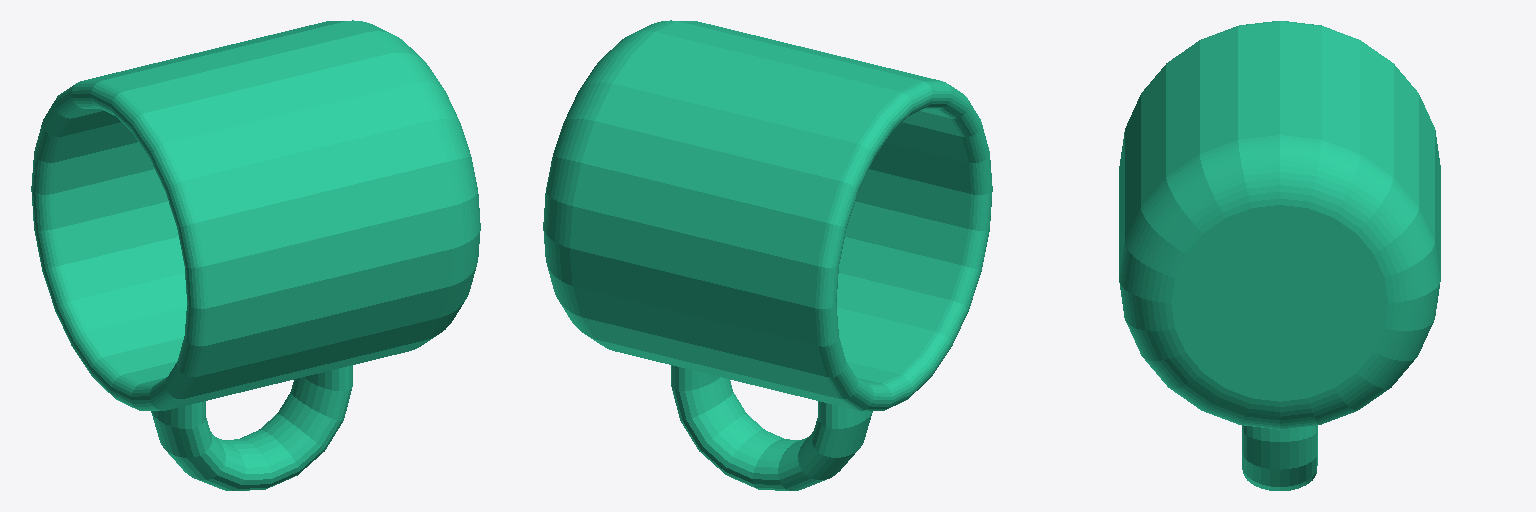
robot.urdf — model.urdf:
<robot name="model.urdf">
  <link name="baseLink">
    <contact>
      <friction_anchor/>
      <lateral_friction value="1.5"/>
      <!-- <spinning_friction value="0.001"/>
      <rolling_friction value="0.001"/> -->
      <spinning_friction value="0.0"/>
      <rolling_friction value="0.0"/>
      <contact_cfm value="0.0"/>
      <contact_erp value="1.0"/>
    </contact>
    <inertial>
       <origin rpy="0 0 0.1" xyz="0.005 0.005 -0.015"/>
       <!-- <mass value=".603"/> -->
       <mass value="1.0"/>
       <inertia ixx="1e-3" ixy="0" ixz="0" iyy="1e-3" iyz="0" izz="1e-3"/>
    </inertial>
    <visual>
      <origin rpy="0 0 1.57" xyz="0 0 0"/>
      <geometry>
        <mesh filename="model_normalized.obj" scale="1 1 1"/>
      </geometry>
      <material name="green">
        <color rgba="0.22 0.81 0.64 1."/>
      </material>
    </visual>
    <collision>
      <origin rpy="0 0 1.57" xyz="0 0 0"/>
      <geometry>
    	 	<mesh filename="model_normalized_vhacd.obj" scale="1 1 1"/>
      </geometry>
    </collision>
  </link>
</robot>

--- What the picture shows (computed from the rendered views, not written in the file) ---
Views: 3 orthographic renders of the robot side by side, from view 1: azimuth 30°, elevation 25°; view 2: azimuth 150°, elevation 25°; view 3: azimuth 270°, elevation 25°.
Robot: model.urdf — 1 links, 0 joints (none); root link baseLink; default pose: every joint at zero.
Links seen in each view (by area): view 1: baseLink; view 2: baseLink; view 3: baseLink.
Boxes of the visible links, x1,y1,x2,y2 form: baseLink: [31, 20, 480, 490]; baseLink: [543, 20, 992, 490]; baseLink: [1119, 21, 1440, 490].
Size in the robot's own frame: 0.5223 by 0.5014 by 0.6903 metres.
1 mesh visuals loaded from 1 distinct referenced files (1 OBJ).